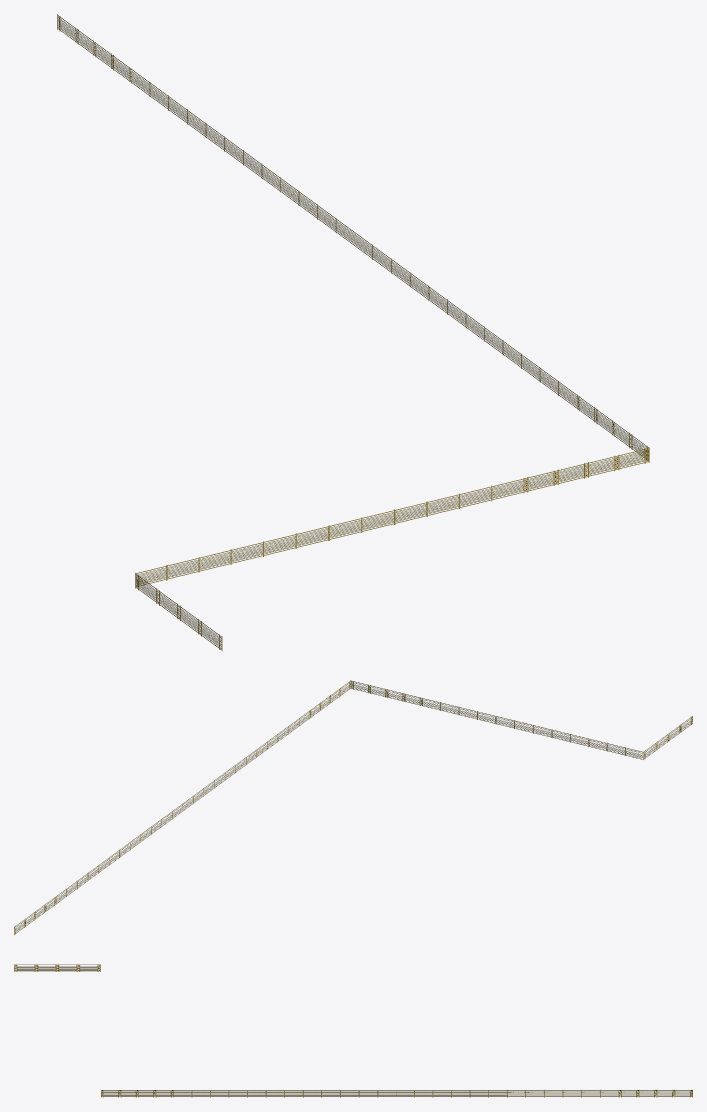
Rendered from chnatwnfnc01_lvs.obj.
The picture shows the model from 3 angles, top to bottom: view 1: azimuth 30°, elevation 25°; view 2: azimuth 150°, elevation 25°; view 3: azimuth 270°, elevation 25°; orthographic projection. The views are drawn at different scales.
Parts seen in each view (by area): view 1: chnatwnfnc01_lvs; view 2: chnatwnfnc01_lvs; view 3: chnatwnfnc01_lvs.
Boxes of the visible parts, x1,y1,x2,y2 form: chnatwnfnc01_lvs: (57,14,649,651); chnatwnfnc01_lvs: (14,680,692,935); chnatwnfnc01_lvs: (14,964,692,1097).
Size of the model in its own units: 40.01 by 1.15 by 91.52.
Materials: 1 (1 with a texture image).
